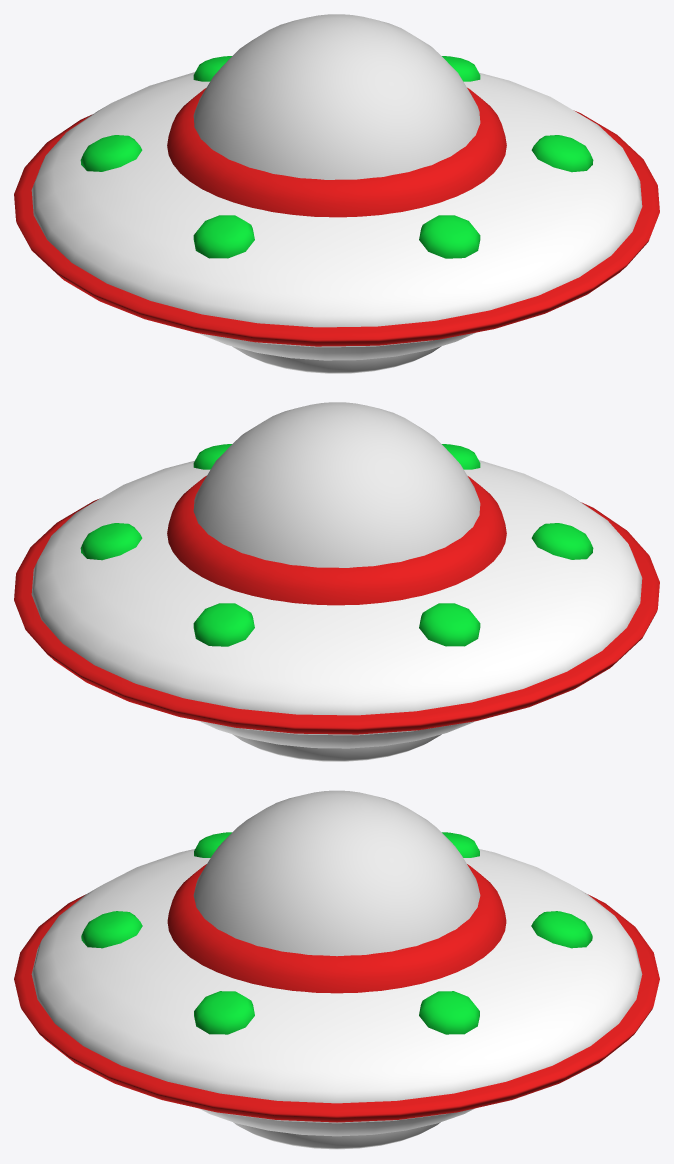
File: ufoV5.gltf
3 views of the same model, one above another, from view 1: azimuth 30°, elevation 25°; view 2: azimuth 150°, elevation 25°; view 3: azimuth 270°, elevation 25° (orthographic).
Visible parts, largest first — view 1: ufo_0; view 2: ufo_0; view 3: ufo_0.
Part boxes in pixels (x1,y1,x2,y2): ufo_0: (14, 14, 659, 373); ufo_0: (14, 402, 659, 761); ufo_0: (14, 790, 659, 1149).
Size of the model in its own units: 4.21 by 2.14 by 4.21.
